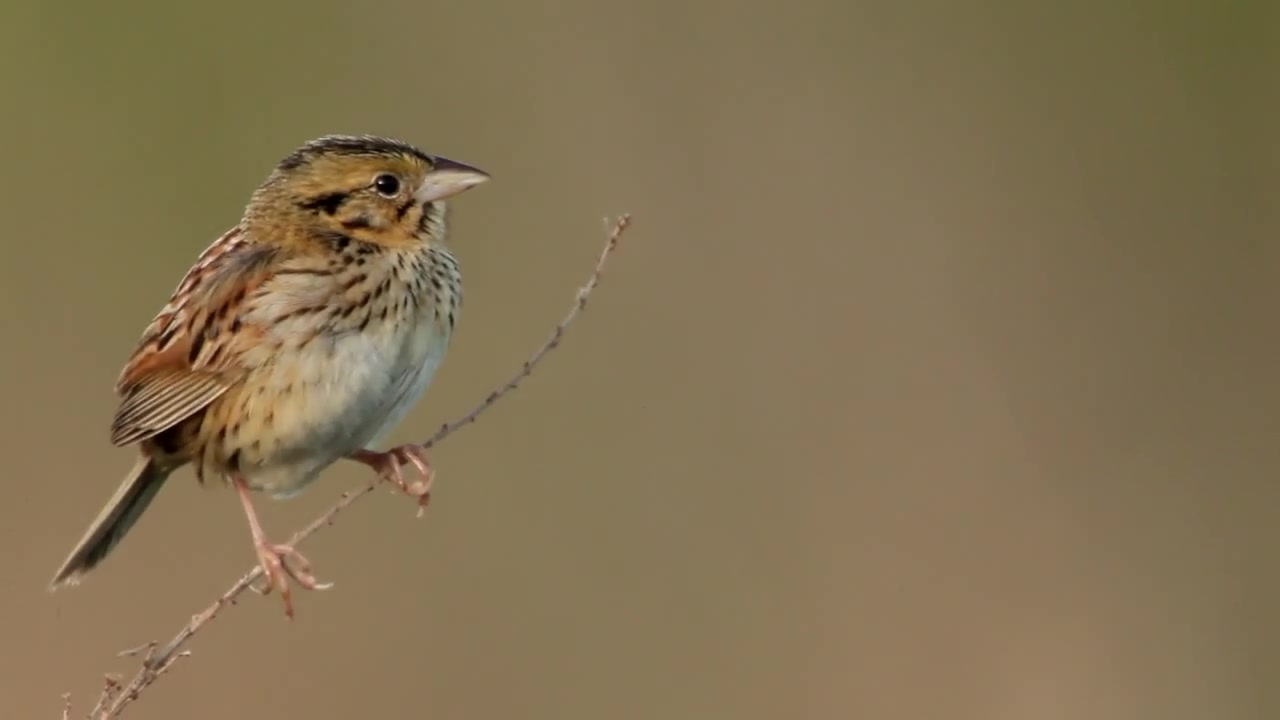bird: (49, 134, 495, 623)
